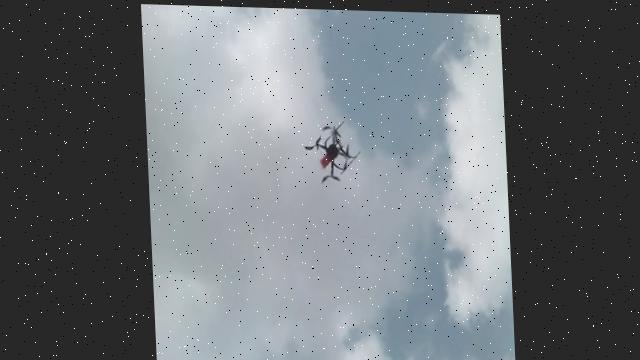drone: (298, 117, 360, 186)
